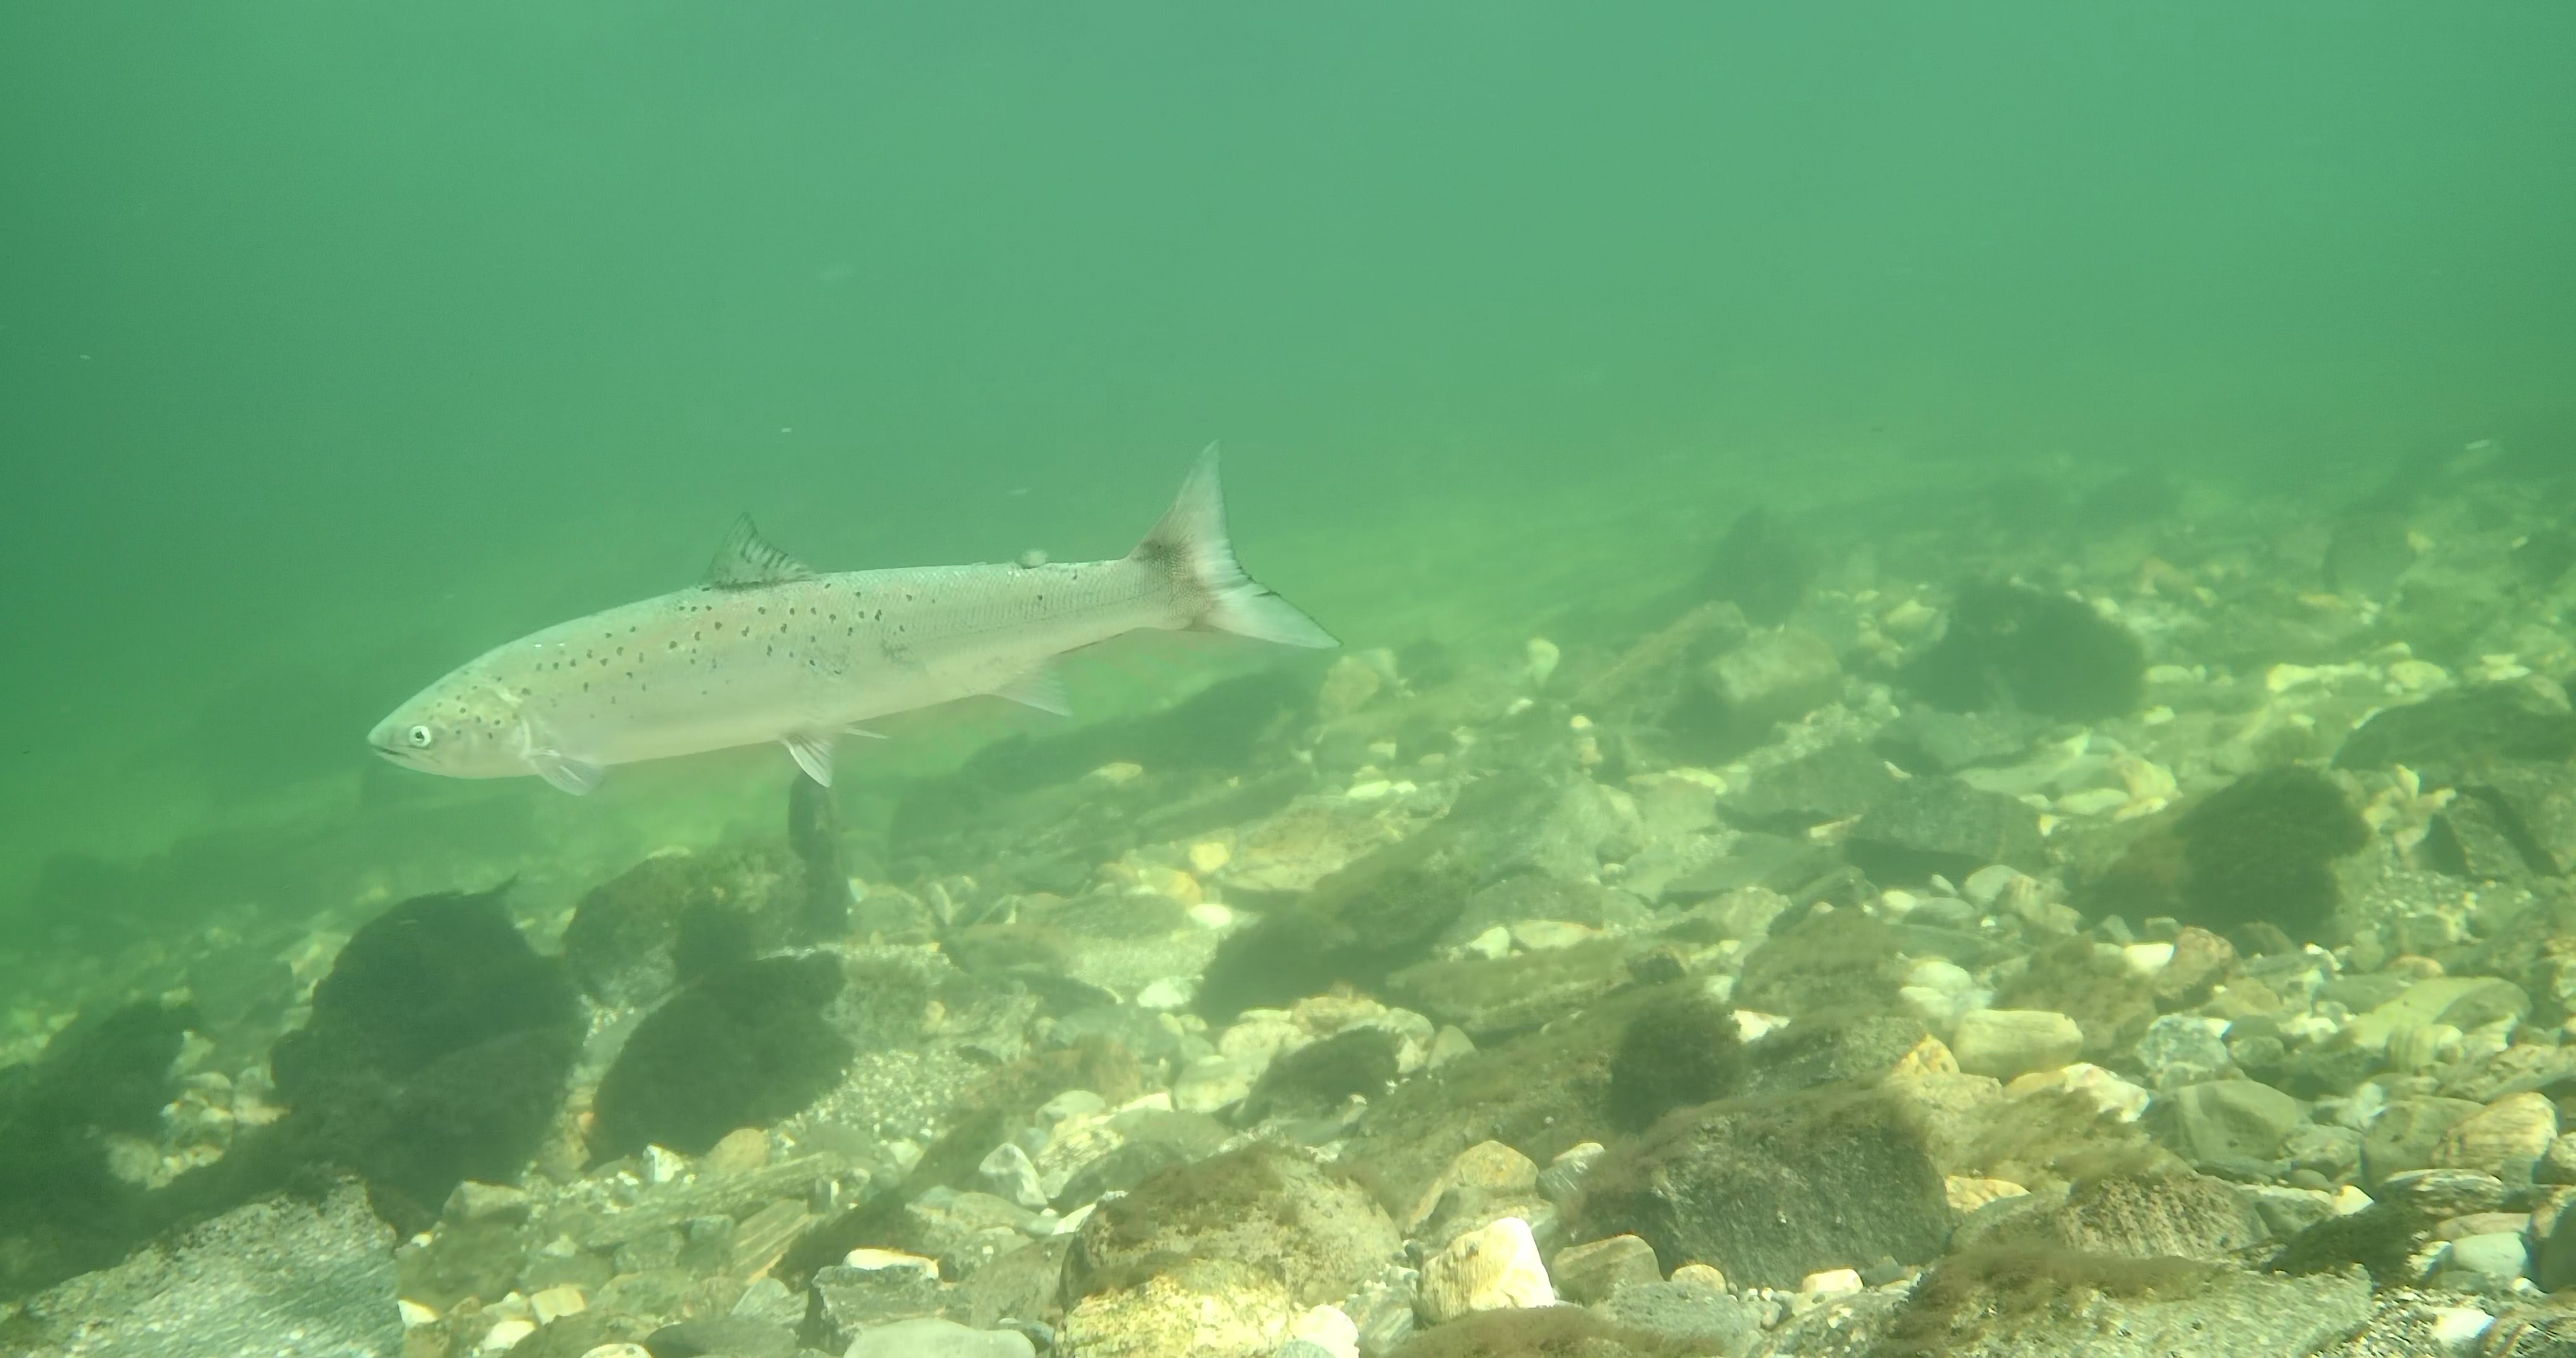salmon: (363, 433, 1346, 797)
